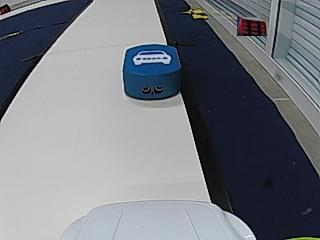safety: (132, 50, 173, 65)
